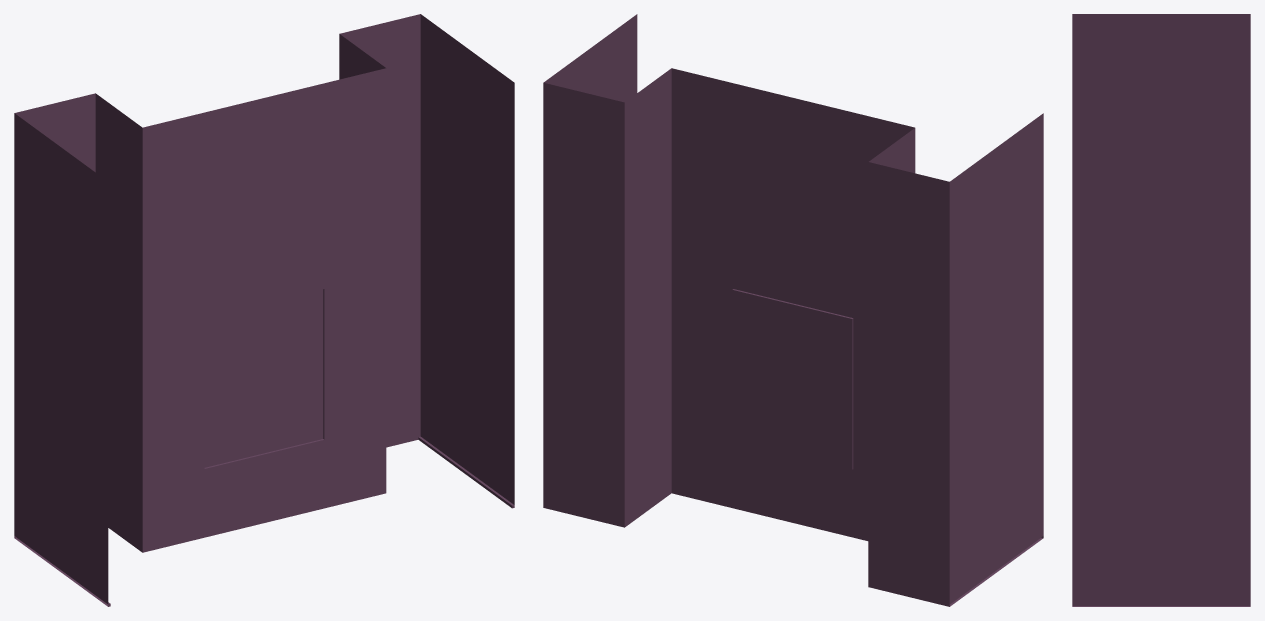
File: Tile15_fix.fbx
The picture shows the model from 3 angles, left to right: view 1: azimuth 30°, elevation 25°; view 2: azimuth 150°, elevation 25°; view 3: azimuth 270°, elevation 25°; orthographic projection. The views are drawn at different scales.
Parts seen in each view (by area): view 1: Tile15; view 2: Tile15; view 3: Tile15.
Part boxes in pixels (x1,y1,x2,y2): Tile15: (14,14,514,606); Tile15: (543,14,1043,606); Tile15: (1072,14,1250,606).
Bounding box in the file's own units: 500 × 500 × 200.
